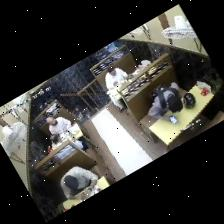person: (148, 83, 183, 120), (61, 167, 98, 199), (106, 66, 127, 112), (47, 117, 71, 134), (71, 134, 89, 150)
